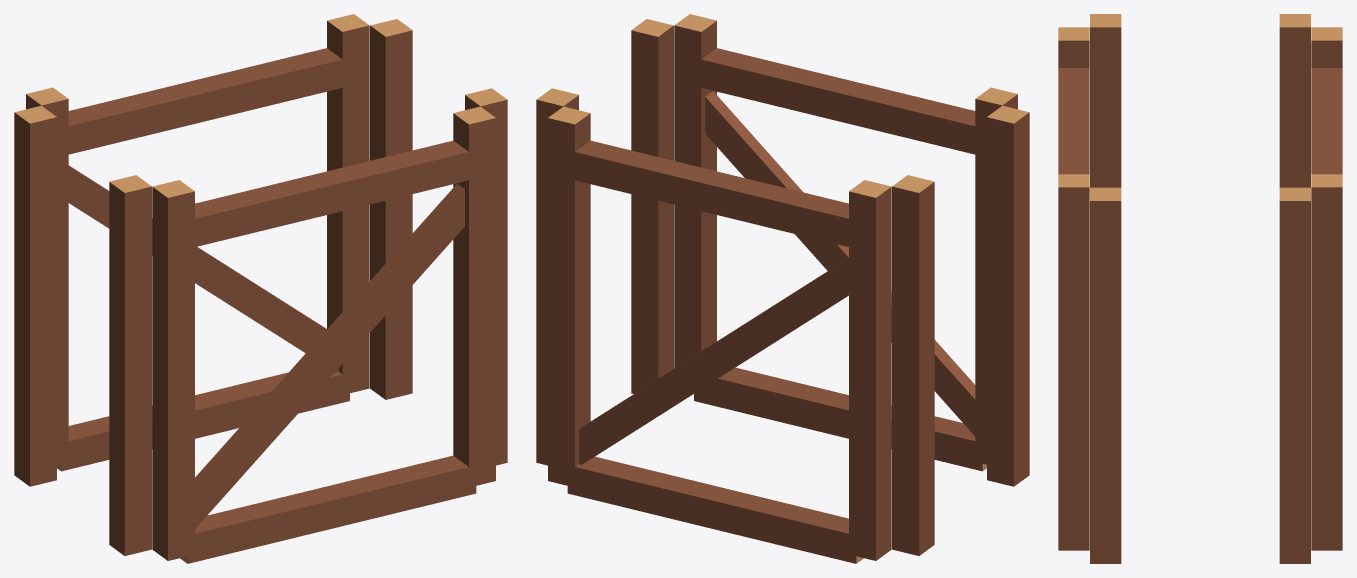
The model's file is Scaffol Sml Wall.fbx.
The picture shows the model from 3 angles, left to right: view 1: azimuth 30°, elevation 25°; view 2: azimuth 150°, elevation 25°; view 3: azimuth 270°, elevation 25°; orthographic projection.
Visible parts, largest first — view 1: Scaffold_Sml_Wall; view 2: Scaffold_Sml_Wall; view 3: Scaffold_Sml_Wall.
Part boxes in pixels (x1,y1,x2,y2): Scaffold_Sml_Wall: [14, 14, 507, 563]; Scaffold_Sml_Wall: [536, 14, 1029, 563]; Scaffold_Sml_Wall: [1058, 14, 1342, 563].
Bounding box in the file's own units: 1.4 × 1.29 × 0.899.
Materials: 1 (1 with a texture image).
